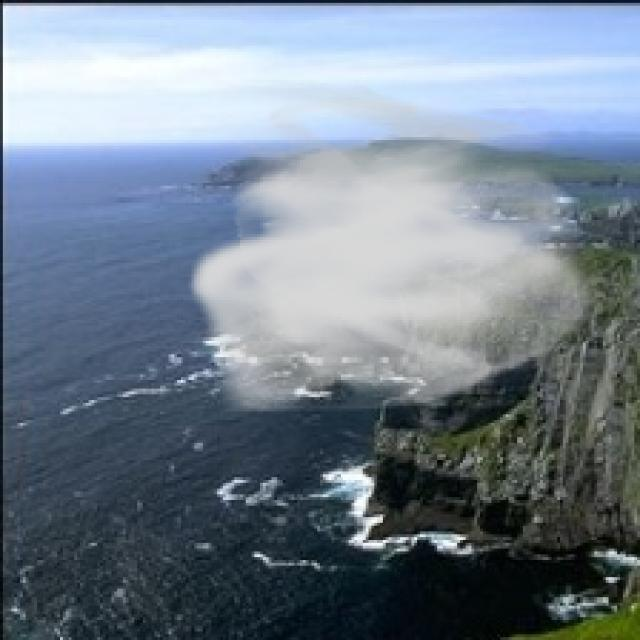Smoke: (186, 77, 612, 423)
